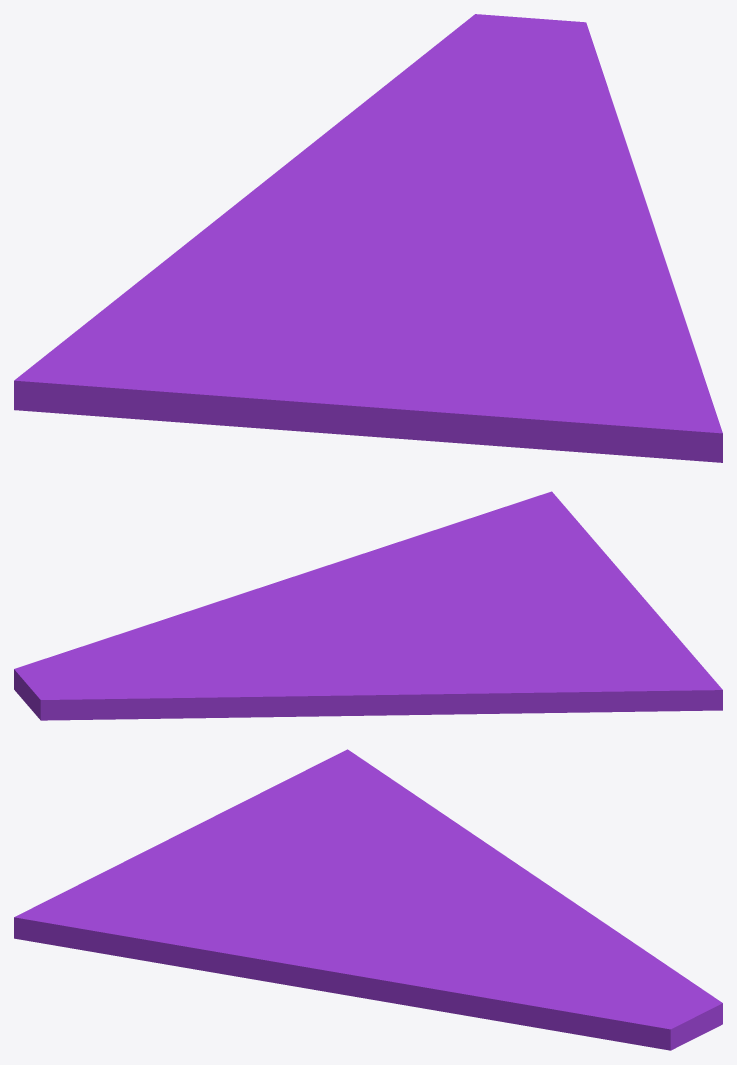
The model's file is StairsStep_43.fbx.
3 views of the same model, one above another, from view 1: azimuth 30°, elevation 25°; view 2: azimuth 150°, elevation 25°; view 3: azimuth 270°, elevation 25° (orthographic). The views are drawn at different scales.
Parts seen in each view (by area): view 1: StairsStep_43; view 2: StairsStep_43; view 3: StairsStep_43.
Part boxes in pixels (x1,y1,x2,y2): StairsStep_43: (14, 14, 722, 462); StairsStep_43: (14, 491, 722, 720); StairsStep_43: (14, 749, 722, 1050).
Bounding box in the file's own units: 507 × 17.94 × 542.
